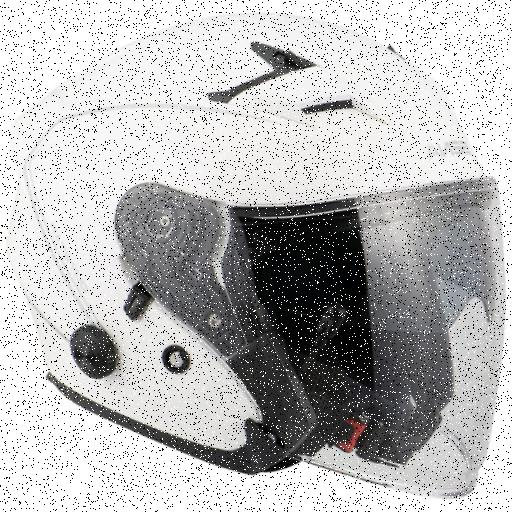Helmet: (9, 15, 503, 495)
